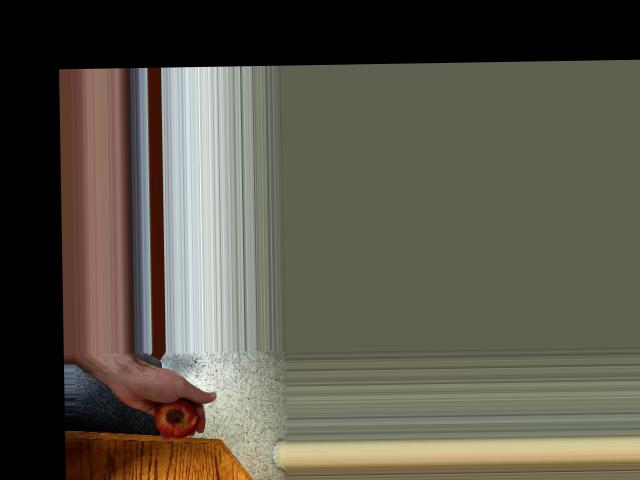apple: (147, 394, 200, 439)
